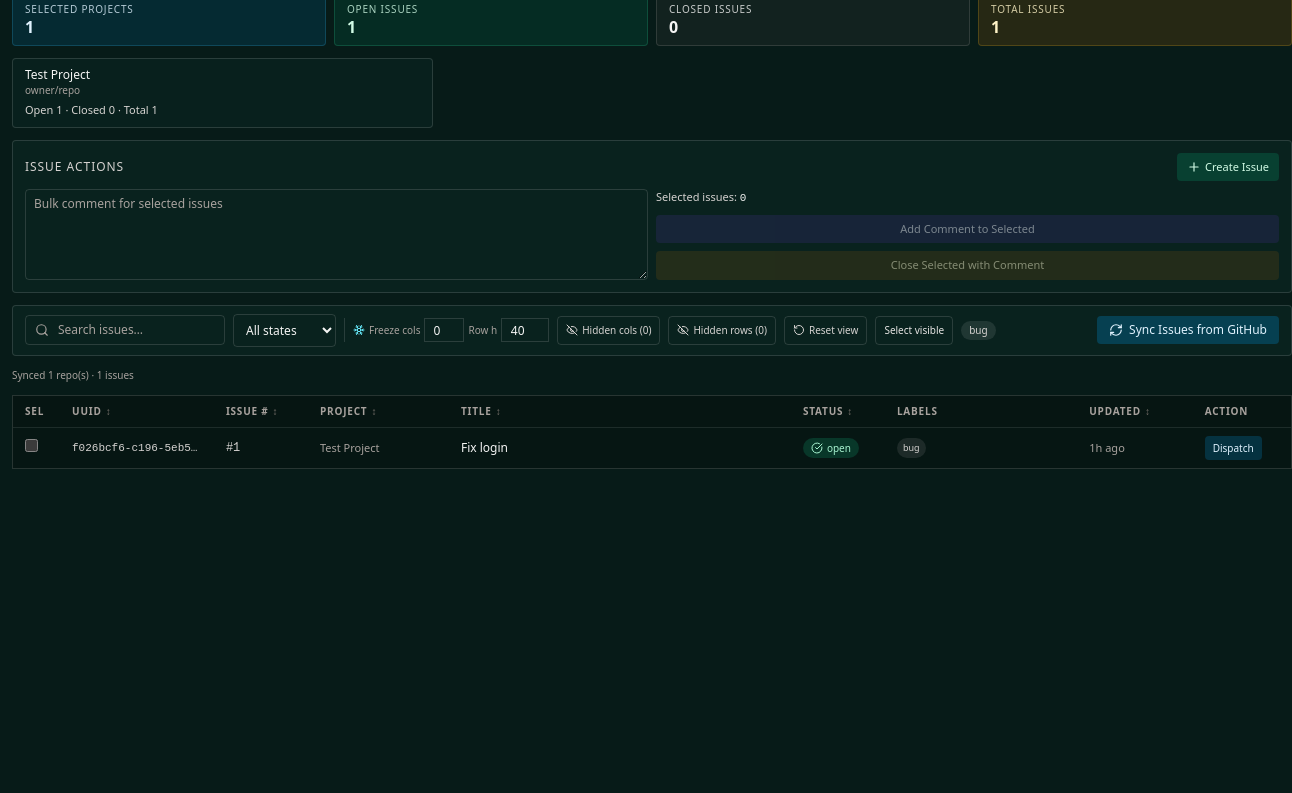
Test case: IssuesTab › loads and displays review timeline comments for selected issue
The width and height of the screenshot is (1292, 793).
What coordinates should you click on to do the following:
click the text "#1"
I would click on:
 (229, 448)
Its box is [226, 441, 240, 455].
(page scrolled)
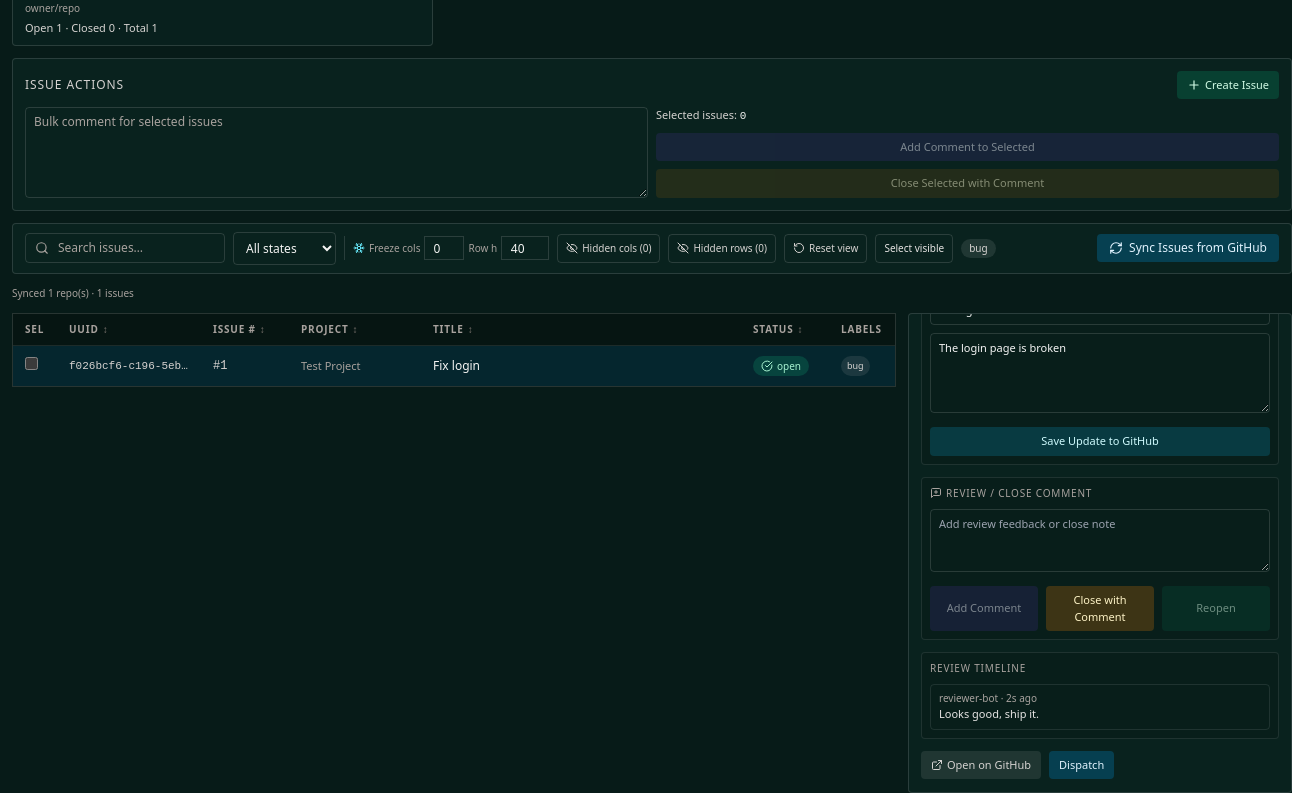
Result: the text "Review Timeline" is shown at [930, 661, 1026, 676]
Result: the text "Looks good, ship it." is shown at [939, 706, 1039, 721]
Result: the text "reviewer-bot · 2s ago" is shown at [939, 691, 1037, 705]
